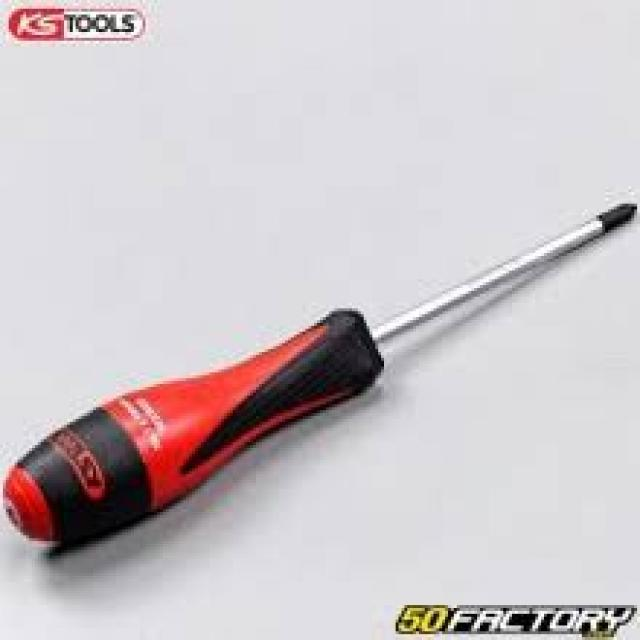screwdriver: (0, 200, 637, 552)
